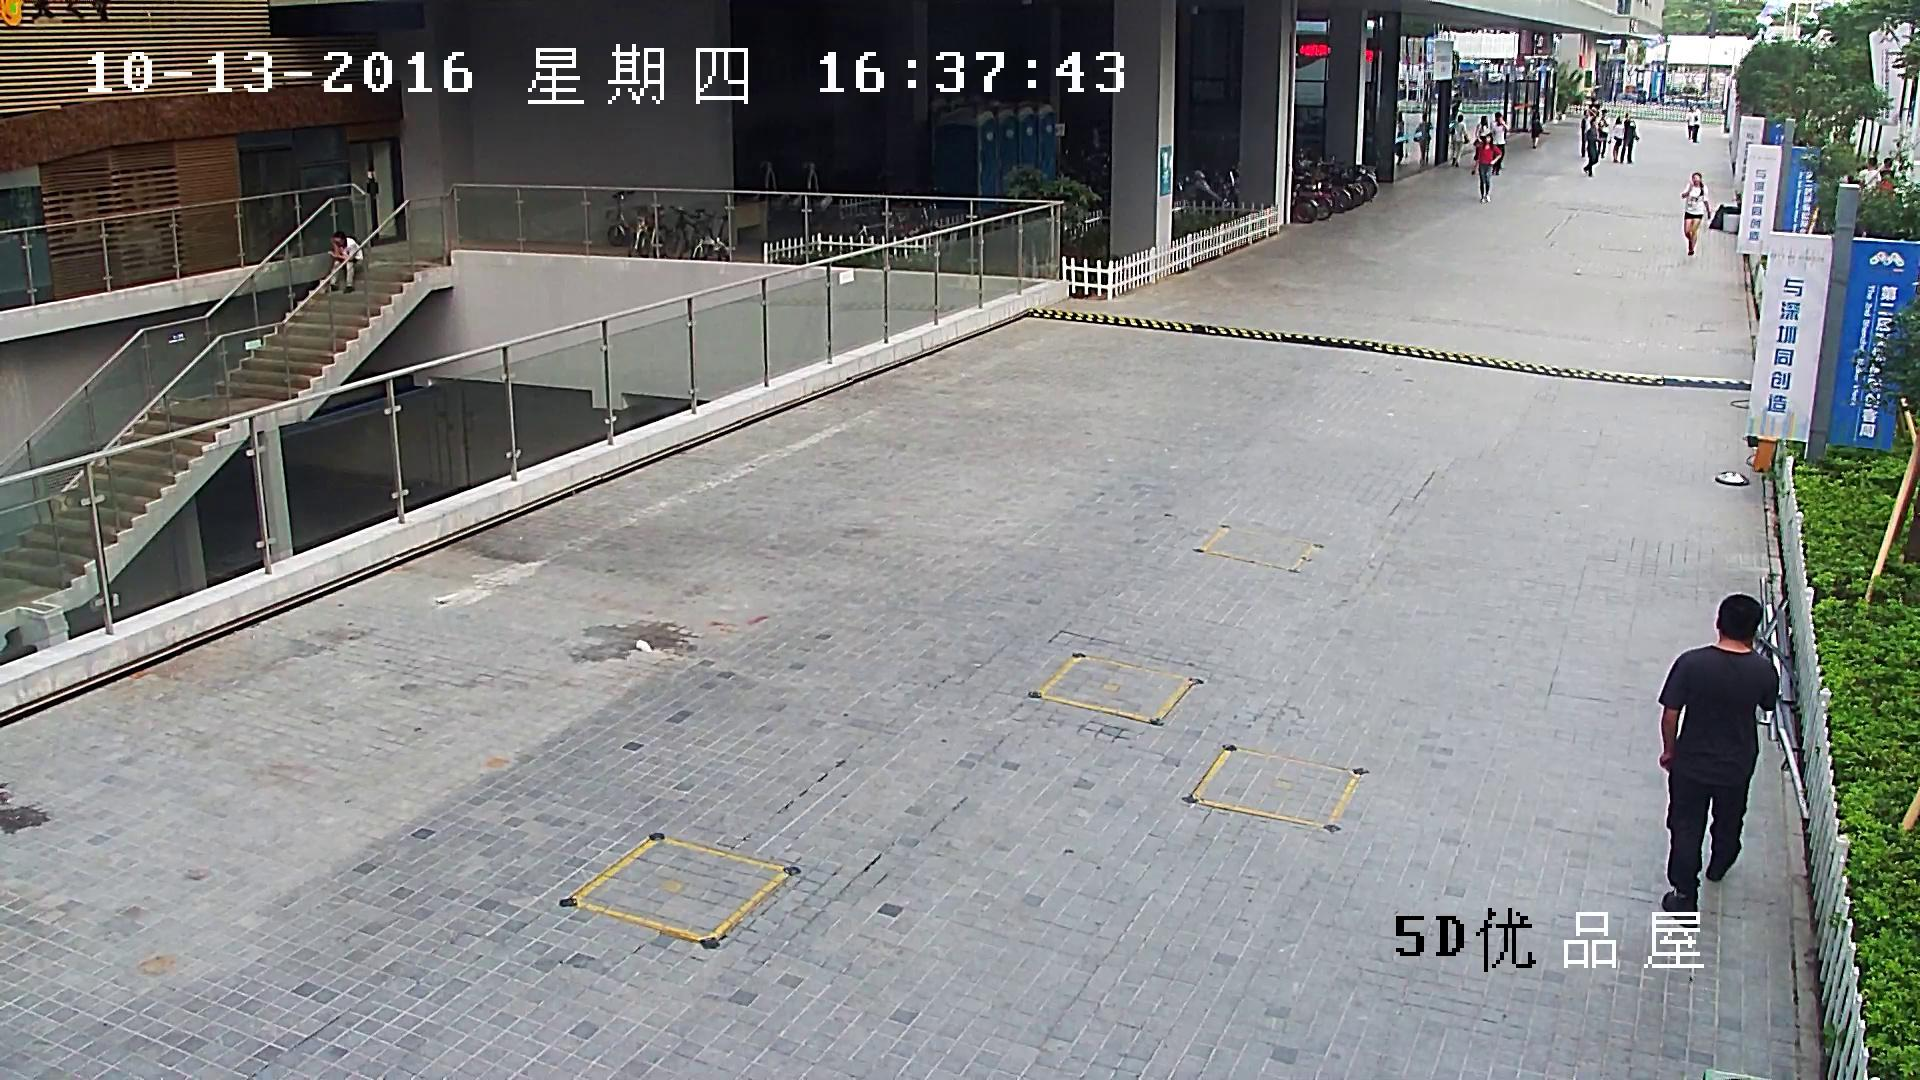person: (1657, 594, 1779, 928), (326, 230, 363, 293), (1682, 172, 1710, 256), (1471, 134, 1501, 204), (1490, 112, 1509, 175), (1471, 116, 1490, 175), (1413, 113, 1432, 168), (1451, 114, 1469, 167), (1620, 113, 1639, 164), (1583, 121, 1598, 177), (1860, 157, 1881, 192), (1597, 110, 1611, 158), (1396, 112, 1407, 167), (1612, 118, 1623, 163), (1880, 157, 1895, 192), (1581, 109, 1592, 157), (1531, 103, 1542, 149), (1691, 106, 1700, 143), (1448, 106, 1459, 137), (1686, 106, 1695, 139), (1588, 97, 1599, 116)
